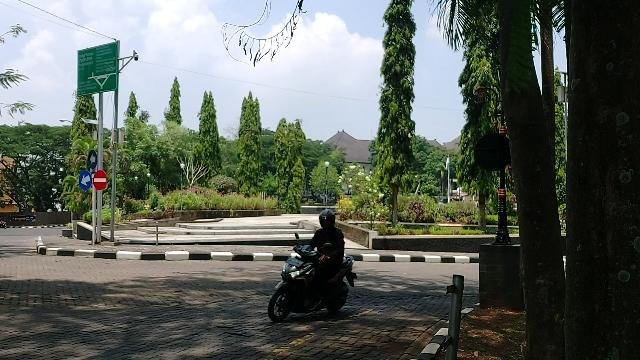helm: (320, 210, 339, 231)
motor: (267, 233, 360, 323)
